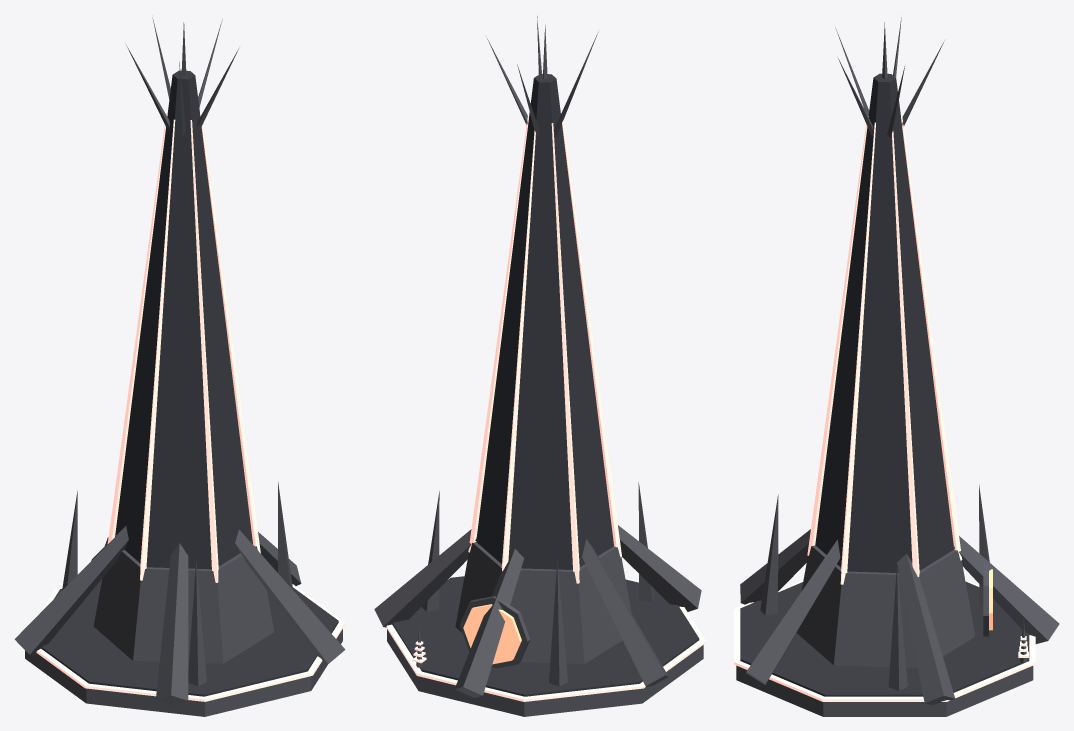
File: zone_high_1_t4.glb
3 views of the same model, side by side, from view 1: azimuth 30°, elevation 25°; view 2: azimuth 150°, elevation 25°; view 3: azimuth 270°, elevation 25° (orthographic).
Parts seen in each view (by area): view 1: zone_high_1_t4; view 2: zone_high_1_t4; view 3: zone_high_1_t4.
Boxes of the visible parts, x1,y1,x2,y2 form: zone_high_1_t4: [14, 18, 345, 716]; zone_high_1_t4: [374, 16, 705, 716]; zone_high_1_t4: [734, 17, 1059, 716].
Bounding box in the file's own units: 30.2 × 63.3 × 29.55.
